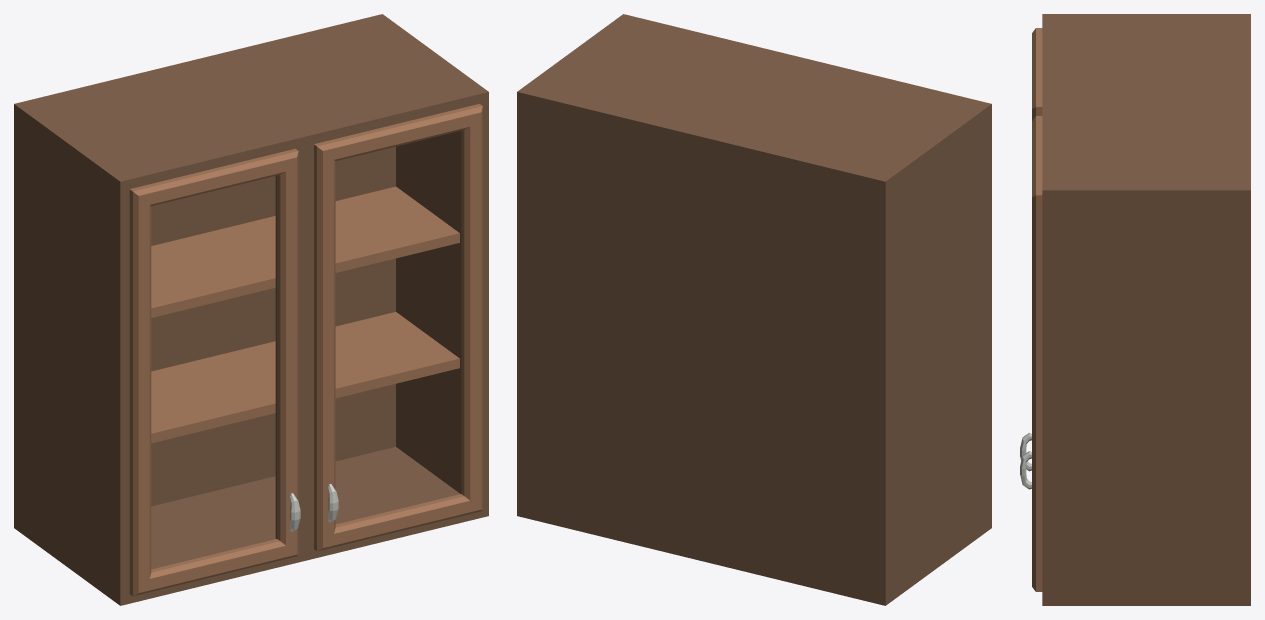
Rendered from Structure_Kitchen_Cabinet_Wall_Open.obj.
3 renders of one model, left to right at view 1: azimuth 30°, elevation 25°; view 2: azimuth 150°, elevation 25°; view 3: azimuth 270°, elevation 25°, orthographic. The views are drawn at different scales.
Visible parts, largest first — view 1: object1, object3, object2; view 2: object1; view 3: object1, object2, object3.
Boxes of the visible parts, left/top/right/bottom form: object1: left=14, top=14, right=488, bottom=605; object3: left=129, top=148, right=300, bottom=596; object2: left=314, top=103, right=482, bottom=551; object1: left=517, top=14, right=991, bottom=605; object1: left=1042, top=14, right=1250, bottom=605; object2: left=1020, top=116, right=1042, bottom=591; object3: left=1020, top=28, right=1042, bottom=471.
Size of the model in its own units: 1 by 1.1 by 0.5531.
